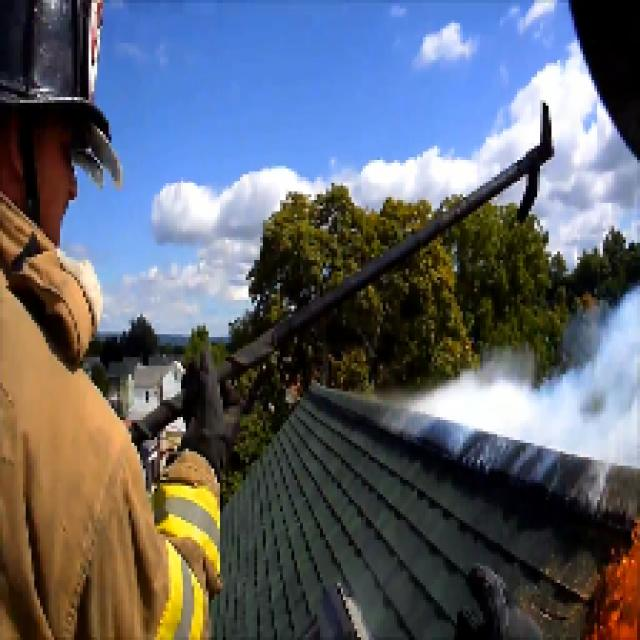smoke: (487, 368, 637, 446)
